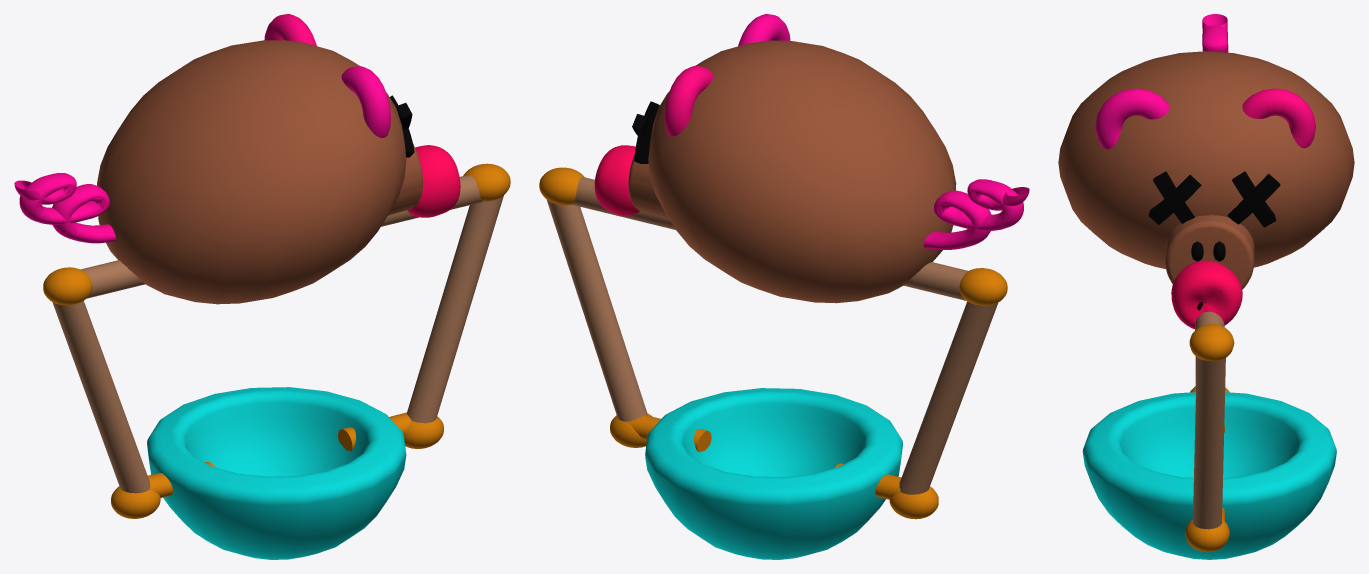
File: RoastedPig.fbx
3 renders of one model, left to right at view 1: azimuth 30°, elevation 25°; view 2: azimuth 150°, elevation 25°; view 3: azimuth 270°, elevation 25°, orthographic. The views are drawn at different scales.
Parts seen in each view (by area): view 1: pSphere1, pSphere6, pCylinder6, pCylinder5, extrudedSurface2, appleForPig:revolvedSurface1, pCylinder2, pTorus1, nurbsToPoly1, pSphere4, pSphere8, pSphere5 (+4 smaller); view 2: pSphere1, pSphere6, pCylinder6, pCylinder5, extrudedSurface2, pCylinder2, appleForPig:revolvedSurface1, pasted__pTorus1, nurbsToPoly1, pSphere4, pCylinder1, pSphere5 (+5 smaller); view 3: pSphere1, pSphere6, pCylinder6, pCylinder1, appleForPig:revolvedSurface1, pTorus1, pasted__pTorus1, pSphere5, nurbsToPoly2, pSphere7, pCube1, pasted__pasted__pCube1 (+3 smaller).
Part boxes in pixels (box(x1,y1,x2,y2)): pSphere1: box(97, 40, 406, 304); pSphere6: box(147, 387, 406, 559); pCylinder6: box(407, 195, 503, 423); pCylinder5: box(52, 300, 150, 493); extrudedSurface2: box(14, 173, 115, 243); appleForPig:revolvedSurface1: box(407, 145, 460, 217); pCylinder2: box(81, 175, 482, 298); pTorus1: box(341, 66, 390, 137); nurbsToPoly1: box(14, 175, 115, 242); pSphere4: box(43, 267, 92, 305); pSphere8: box(111, 486, 160, 518); pSphere5: box(463, 163, 510, 201); pSphere1: box(648, 40, 956, 303); pSphere6: box(645, 388, 902, 559); pCylinder6: box(547, 200, 647, 421); pCylinder5: box(899, 301, 997, 494); extrudedSurface2: box(923, 179, 1029, 249); pCylinder2: box(572, 177, 967, 300); appleForPig:revolvedSurface1: box(594, 145, 639, 216); pasted__pTorus1: box(664, 66, 713, 136); nurbsToPoly1: box(924, 185, 1029, 248); pSphere4: box(959, 268, 1007, 305); pCylinder1: box(628, 154, 668, 218); pSphere5: box(539, 167, 584, 205); pSphere1: box(1058, 51, 1354, 268); pSphere6: box(1082, 392, 1336, 559); pCylinder6: box(1193, 357, 1225, 529); pCylinder1: box(1165, 215, 1254, 289); appleForPig:revolvedSurface1: box(1171, 260, 1242, 329); pTorus1: box(1095, 88, 1169, 149); pasted__pTorus1: box(1242, 88, 1315, 148); pSphere5: box(1189, 324, 1234, 361); nurbsToPoly2: box(1171, 260, 1242, 326); pSphere7: box(1185, 519, 1229, 552); pCube1: box(1232, 171, 1276, 227); pasted__pasted__pCube1: box(1148, 174, 1201, 224).
Bounding box in the file's own units: 8.51 × 8.08 × 4.57.
